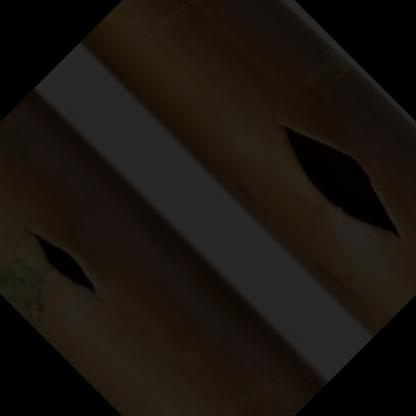burst: (259, 115, 404, 260), (26, 225, 108, 313)
